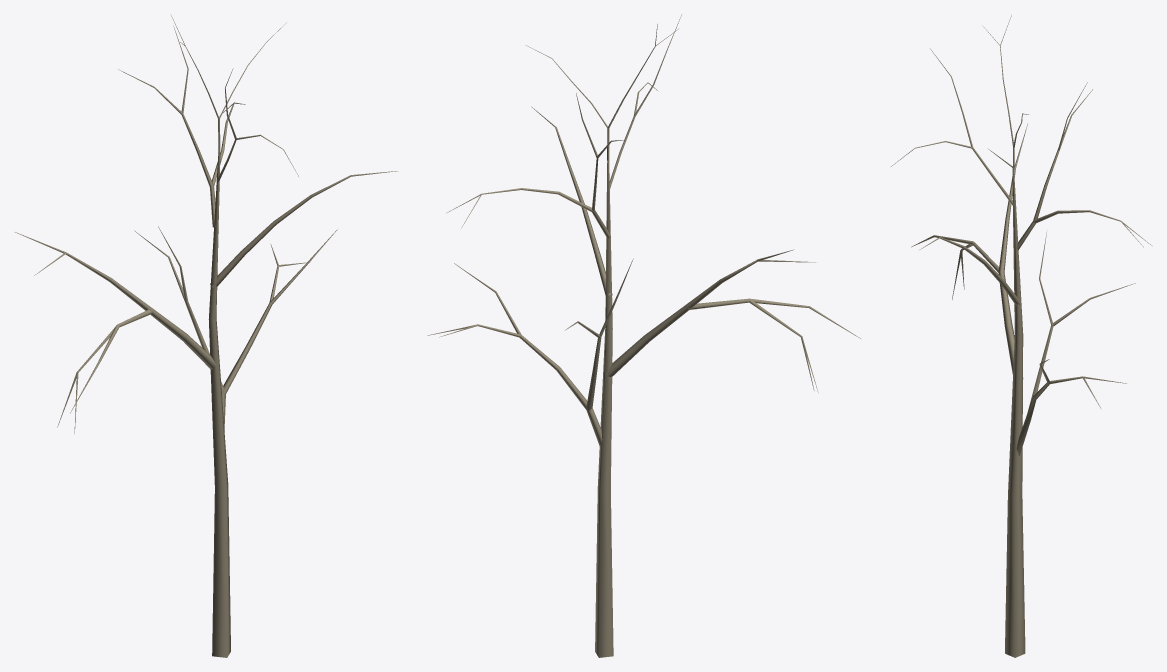
Rendered from NormalTrunk.fbx.
3 renders of one model, left to right at view 1: azimuth 30°, elevation 25°; view 2: azimuth 150°, elevation 25°; view 3: azimuth 270°, elevation 25°, orthographic. The views are drawn at different scales.
Visible parts, largest first — view 1: NormalTrunk; view 2: NormalTrunk; view 3: NormalTrunk.
Part boxes in pixels (bbox=[...]): NormalTrunk: bbox=[15, 14, 397, 657]; NormalTrunk: bbox=[427, 14, 860, 657]; NormalTrunk: bbox=[891, 14, 1152, 657].
Size of the model in its own units: 720 by 1316 by 508.
